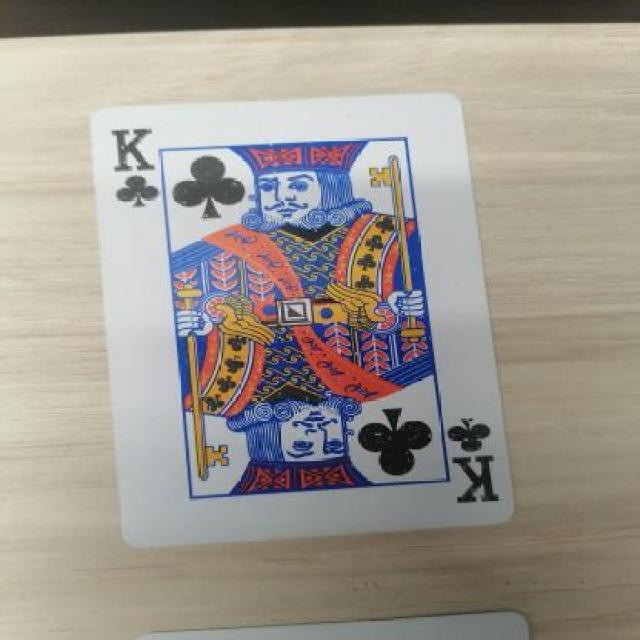KC: (442, 408, 508, 515), (105, 112, 157, 231)
